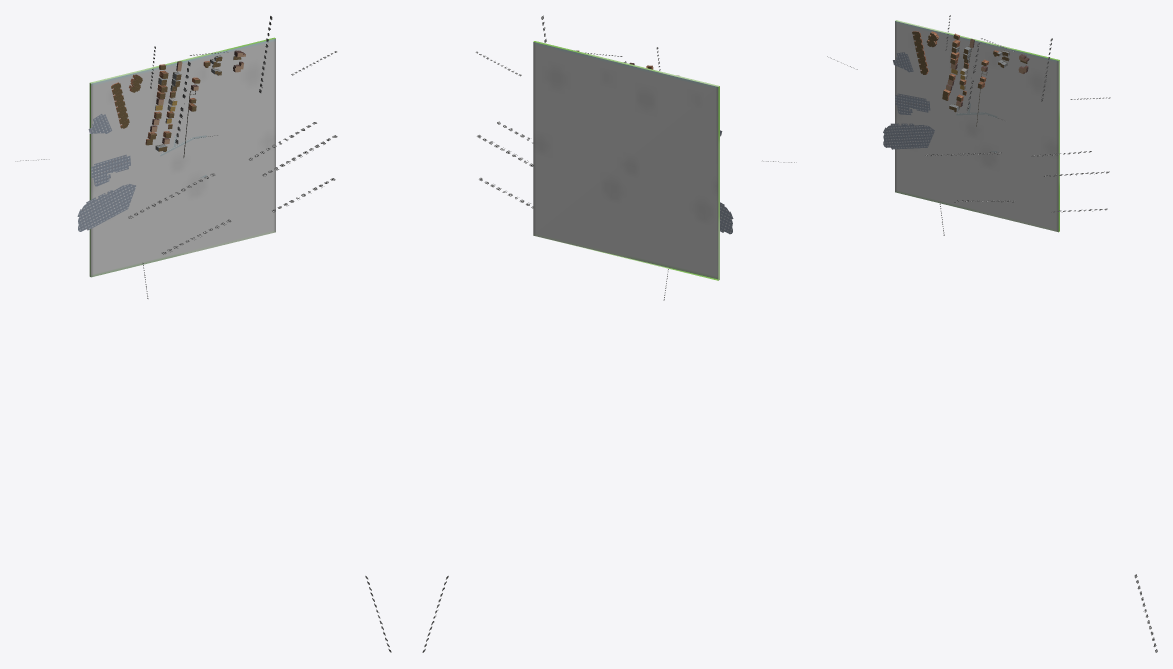
3 views of the same model, side by side, from view 1: azimuth 30°, elevation 25°; view 2: azimuth 150°, elevation 25°; view 3: azimuth 330°, elevation 25° (orthographic). The views are drawn at different scales.
Parts seen in each view (by area): view 1: POLYGON, BUILDING, FONT; view 2: POLYGON, FONT; view 3: POLYGON, BUILDING, FONT.
Part boxes in pixels (x1,y1,x2,y2): POLYGON: (77,37,275,277); BUILDING: (111,50,245,157); FONT: (15,16,391,652); POLYGON: (533,41,733,280); FONT: (422,15,796,652); POLYGON: (883,20,1059,232); BUILDING: (912,31,1029,126); FONT: (827,15,1157,652).
Bounding box in the file's own units: 1237 × 2104 × 29.
3 materials, 3 textured.
